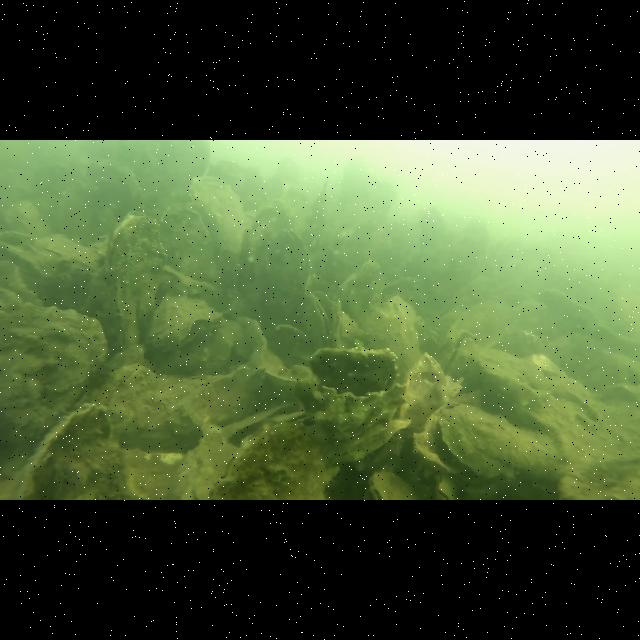Oyster-Closed: (1, 300, 108, 460), (16, 404, 132, 501), (208, 420, 342, 500), (238, 206, 310, 326), (0, 230, 94, 308), (104, 362, 192, 444), (174, 422, 242, 500), (158, 200, 218, 288), (360, 296, 420, 372), (406, 353, 449, 425)
Oyster-Open: (294, 348, 408, 454), (414, 402, 562, 482), (105, 211, 163, 351), (147, 296, 225, 354), (443, 328, 479, 382), (307, 290, 341, 346), (366, 470, 416, 500), (433, 474, 459, 500)
